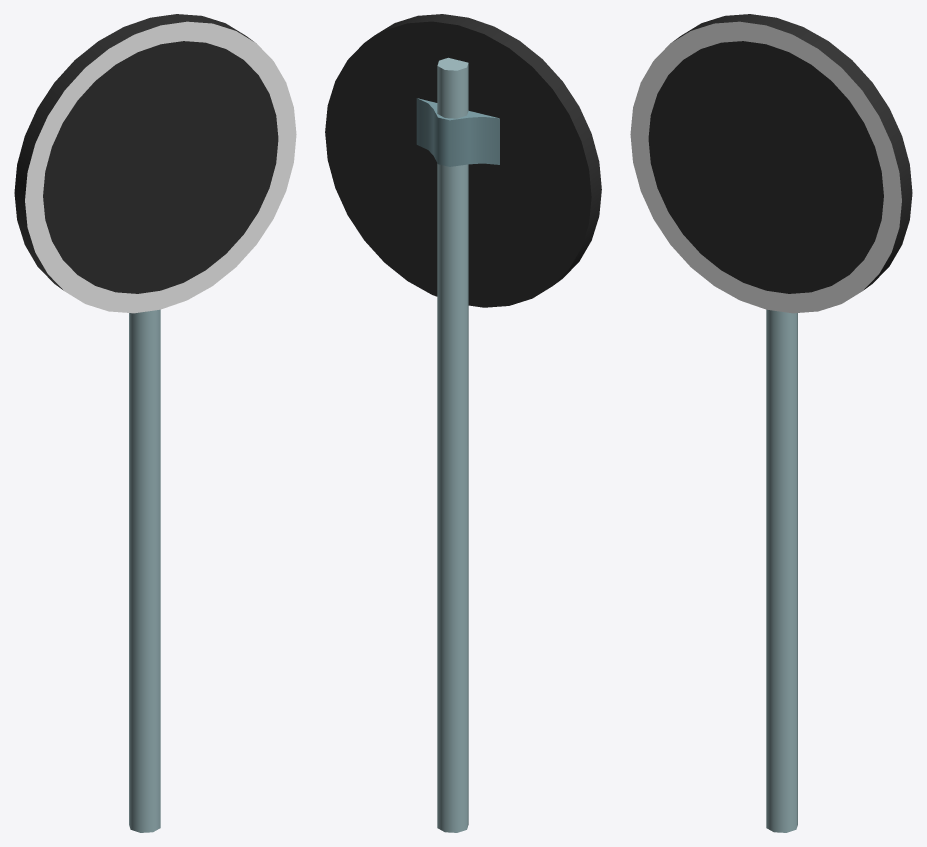
The model's file is BlackWayPanel.fbx.
3 renders of one model, left to right at view 1: azimuth 30°, elevation 25°; view 2: azimuth 150°, elevation 25°; view 3: azimuth 330°, elevation 25°, orthographic.
Parts seen in each view (by area): view 1: BlackWayPanel; view 2: BlackWayPanel; view 3: BlackWayPanel.
Boxes of the visible parts, x1,y1,x2,y2 form: BlackWayPanel: (14,14,296,832); BlackWayPanel: (325,14,601,832); BlackWayPanel: (630,14,912,832).
Bounding box in the file's own units: 2 × 0.3233 × 5.72.
